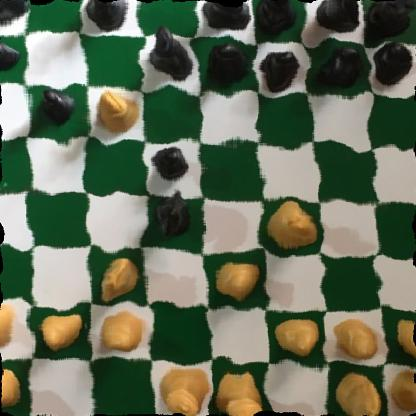black-bishop: (84, 0, 138, 34), (249, 0, 298, 36)
black-king: (199, 0, 251, 36)
black-knight: (143, 191, 194, 242), (313, 0, 363, 40)
black-pawn: (308, 45, 361, 91), (202, 41, 254, 86), (368, 40, 415, 84), (148, 142, 191, 187), (32, 79, 74, 122), (260, 50, 297, 89), (0, 32, 13, 76)
black-queen: (142, 29, 193, 84)
black-rook: (360, 0, 416, 42), (0, 0, 27, 23)
white-bishop: (262, 201, 316, 249), (92, 87, 139, 132)
white-king: (210, 366, 265, 416)
white-knight: (97, 246, 143, 298), (335, 371, 382, 416)
white-pawn: (213, 255, 262, 305), (36, 307, 87, 355), (273, 316, 323, 361), (96, 312, 147, 351), (332, 316, 378, 359), (0, 294, 23, 349), (387, 320, 416, 360)
white-queen: (154, 360, 211, 416)
white-rook: (386, 365, 416, 416), (0, 362, 22, 416)
